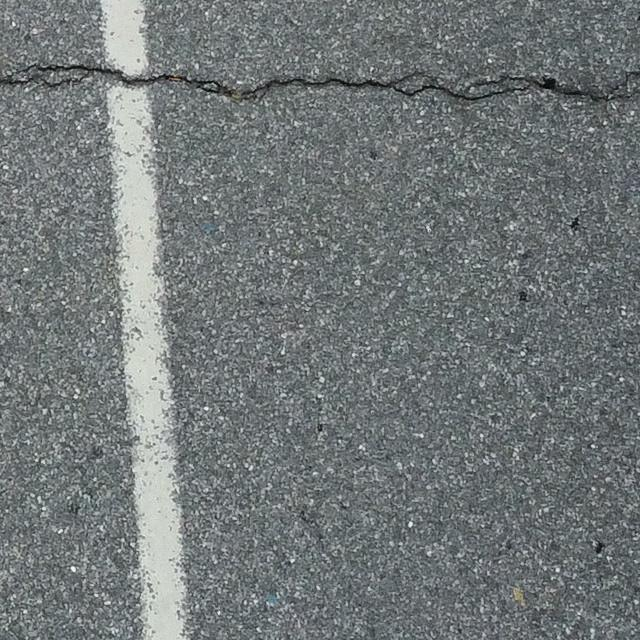TransverseCrack: (1, 63, 640, 104)
